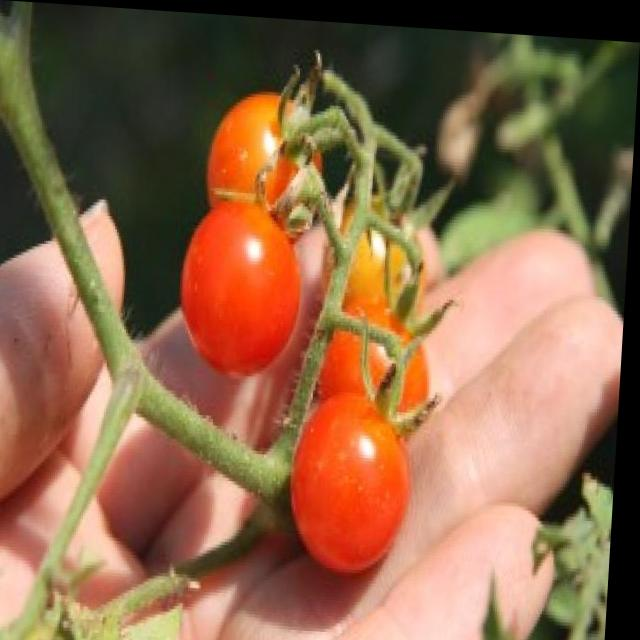kirmizi: (274, 388, 439, 576), (174, 180, 324, 351)
